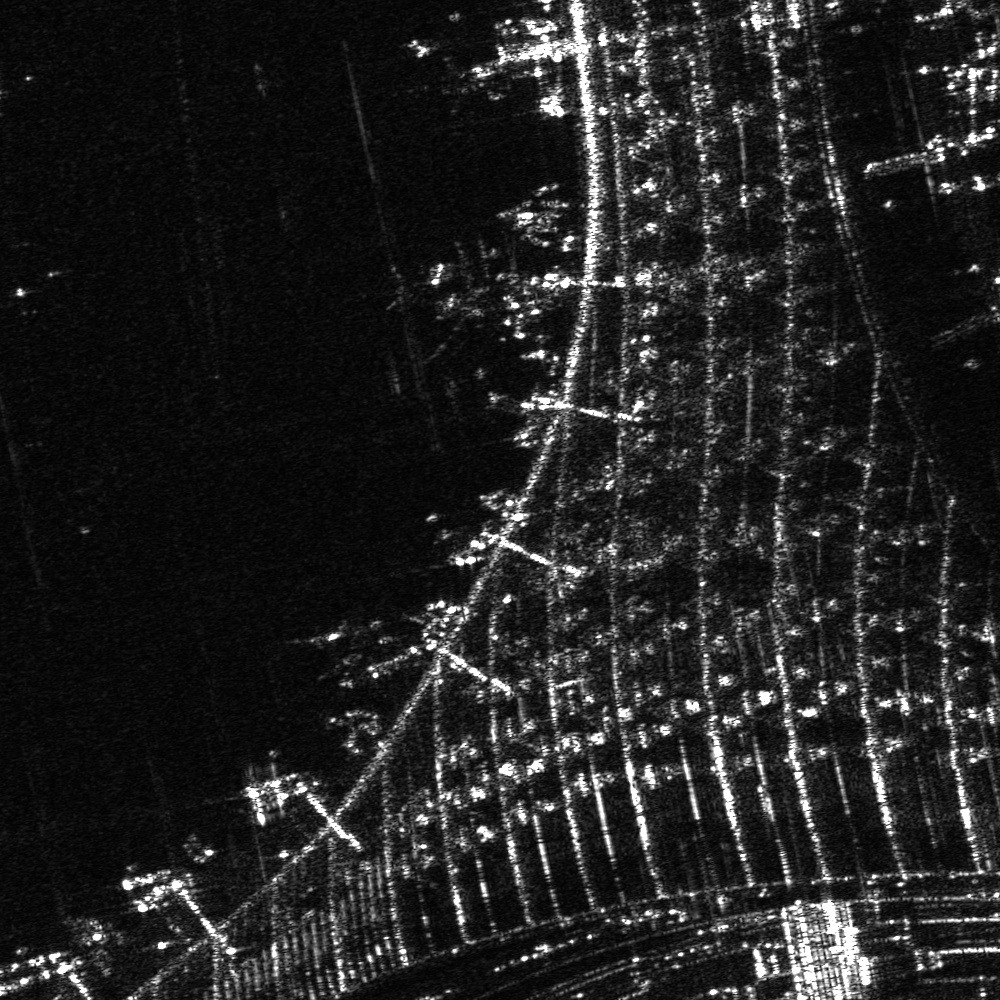A220: (307, 615, 359, 683)
Boeing787: (382, 232, 502, 364)
